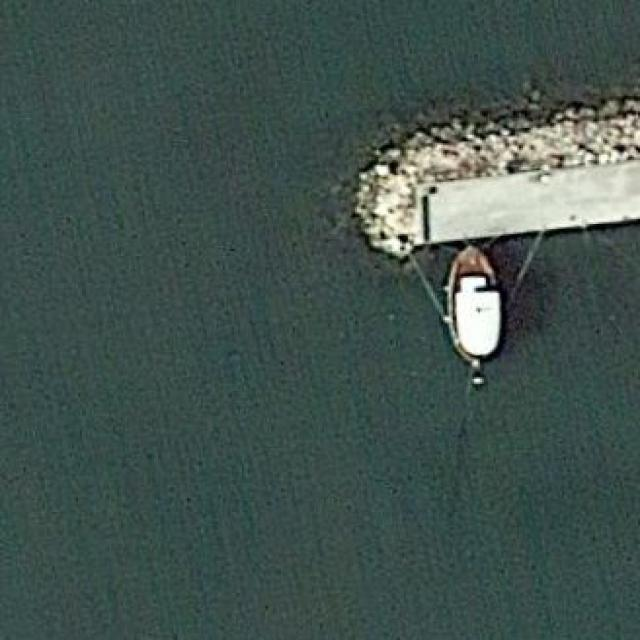boat: (439, 242, 509, 370)
